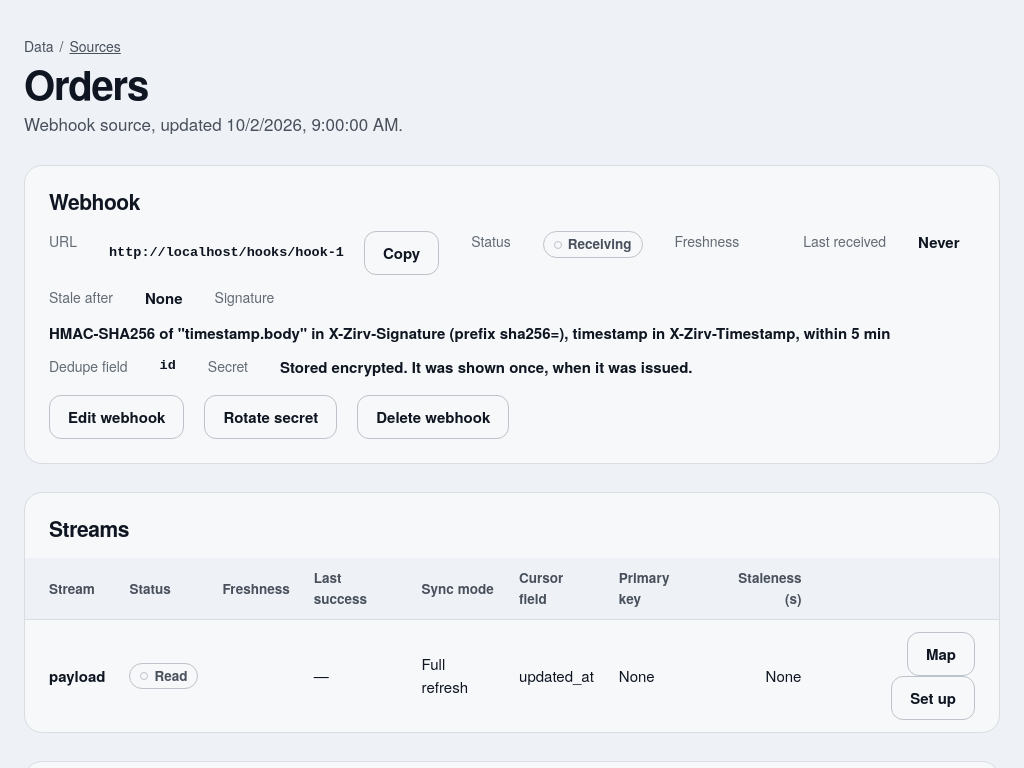
Test case: the mapping dialog of a webhook stream › asks for a sample instead of reading a source, and does not ask for a primary key
Click the button with aria-label "Map payload" at (941, 654), box [907,632,975,676]
(page scrolled)
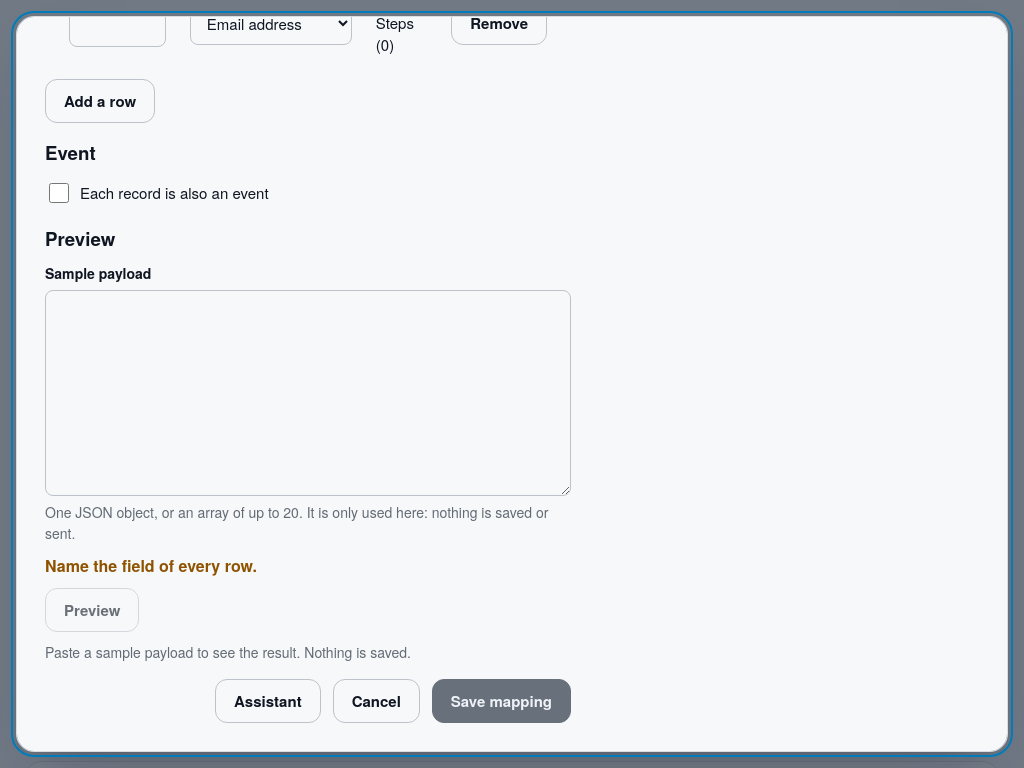
Check: the text box labelled "Sample payload" is shown, box [45,290,571,496]
Check: the text "Paste a sample payload to see the result. Nothing is saved." is shown, box [45,642,411,662]
Check: the checkbox labelled "Each record is also an event" is enabled, box [49,183,69,203]
